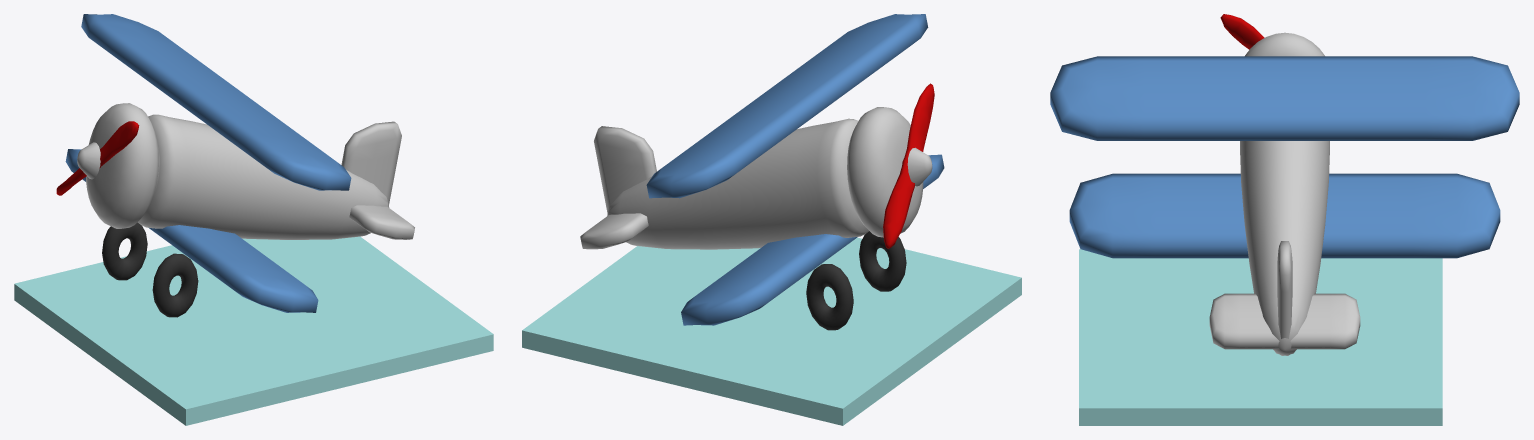
Rendered from Avion.DAE.
3 views of the same model, side by side, from view 1: azimuth 30°, elevation 25°; view 2: azimuth 150°, elevation 25°; view 3: azimuth 270°, elevation 25° (orthographic). The views are drawn at different scales.
Parts seen in each view (by area): view 1: toyairplane.layer01, Box001; view 2: toyairplane.layer01, Box001; view 3: toyairplane.layer01, Box001.
Part boxes in pixels (x1,y1,x2,y2): toyairplane.layer01: [56, 14, 414, 317]; Box001: [14, 236, 493, 425]; toyairplane.layer01: [580, 14, 944, 330]; Box001: [522, 237, 1021, 425]; toyairplane.layer01: [1050, 14, 1519, 355]; Box001: [1079, 249, 1442, 425].
Bounding box in the file's own units: 140 × 167 × 103.
